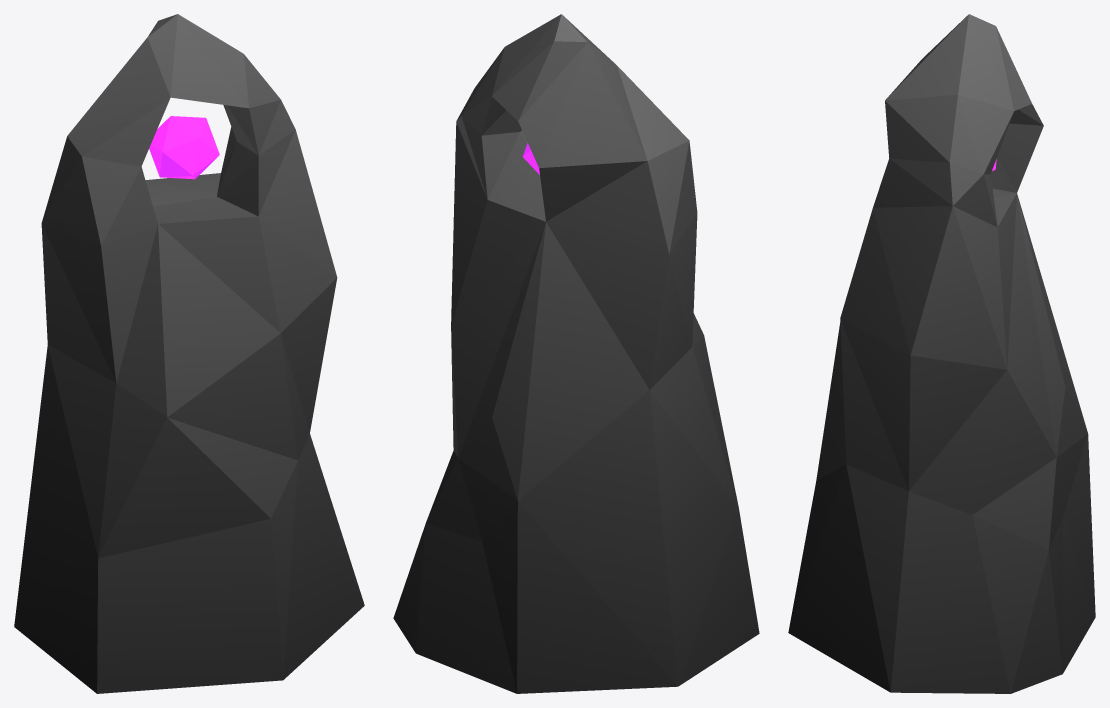
File: Rock_Totem 01.fbx
3 views of the same model, side by side, from view 1: azimuth 30°, elevation 25°; view 2: azimuth 150°, elevation 25°; view 3: azimuth 270°, elevation 25° (orthographic). The views are drawn at different scales.
Parts seen in each view (by area): view 1: Rock_Totem; view 2: Rock_Totem; view 3: Rock_Totem.
Boxes of the visible parts, x1,y1,x2,y2 form: Rock_Totem: (14,14,364,693); Rock_Totem: (393,14,759,693); Rock_Totem: (788,14,1095,693).
Bounding box in the file's own units: 135 × 274 × 124.
Materials: 2 (1 with a texture image).
